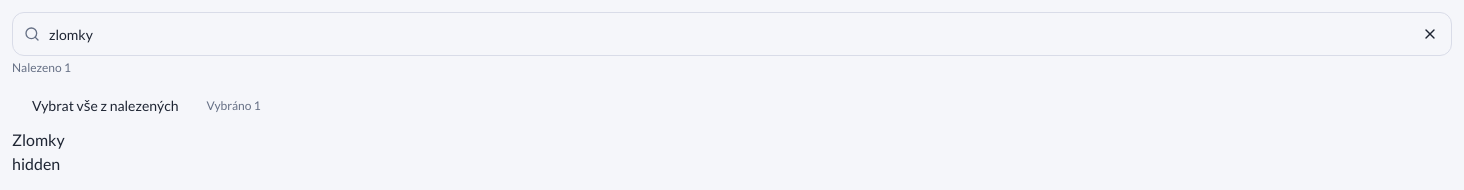
Test: picker interactions › selects found without losing hidden selected IDs
What coordinates should you click on to do the following:
click the button "Vybrat vše z nalezených"
I would click on:
 (105, 106)
Its box is [12, 84, 198, 128].
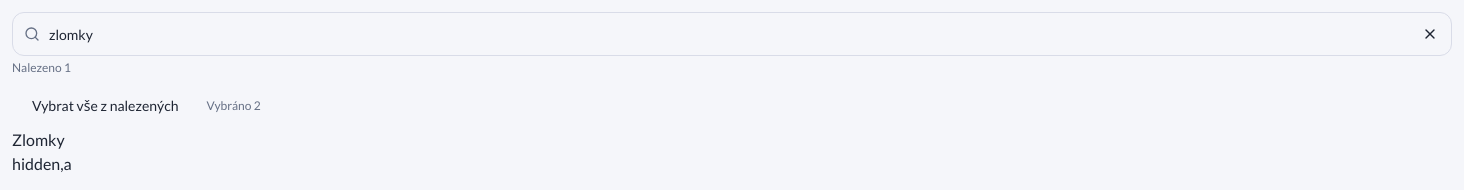
Now the text "hidden,a" is shown, box [12, 154, 72, 173]
